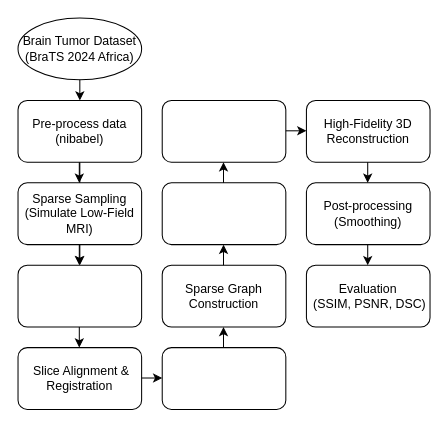
Some shapes in this 448 by 427 pixel diagram are drawn without their labels. Each missing label, with the box of its shape:
GCN Model Training (SGS-Net): (161, 182, 286, 245)
Graph Feature Extraction (Node/Edge features): (161, 347, 286, 409)
Integration & Fusion: (161, 99, 286, 162)
ROI Selection & Domain Crossover: (17, 264, 142, 327)
